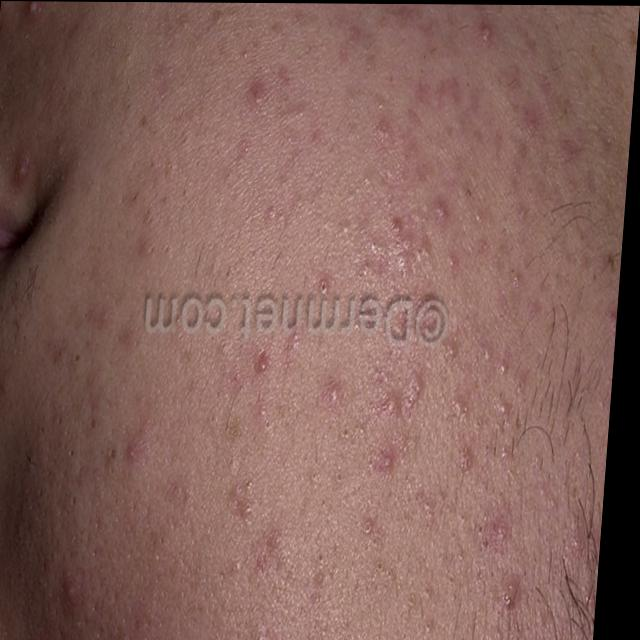blackheads: (499, 569, 535, 617), (238, 75, 274, 117), (7, 154, 42, 197), (451, 385, 480, 430), (239, 490, 270, 532), (474, 11, 502, 57), (495, 432, 527, 472), (380, 437, 408, 482), (257, 192, 288, 232), (512, 193, 541, 234), (250, 345, 282, 382), (431, 191, 459, 233), (384, 210, 417, 245), (358, 504, 385, 546), (230, 547, 256, 587), (362, 89, 395, 118), (327, 371, 349, 414), (19, 0, 49, 28), (49, 135, 75, 167), (495, 391, 520, 423), (510, 259, 530, 297), (357, 168, 375, 202), (234, 39, 253, 69), (499, 353, 517, 384), (373, 121, 394, 147), (338, 216, 358, 242), (447, 249, 466, 275), (426, 615, 445, 637), (127, 445, 142, 470)
